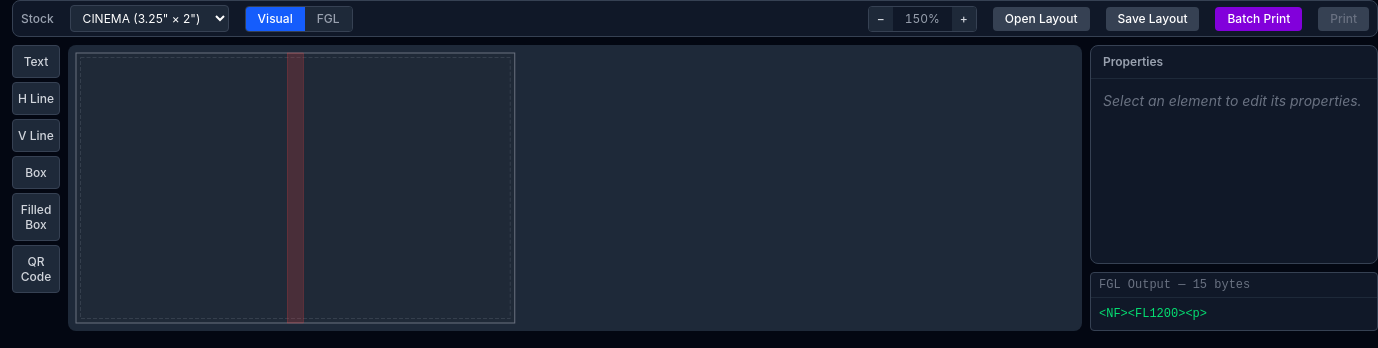
Test: TicketEditor › clicking "Visual" after "FGL" restores palette
Click the button "FGL" at (328,18), box x1=305 y1=6 x2=352 y2=30
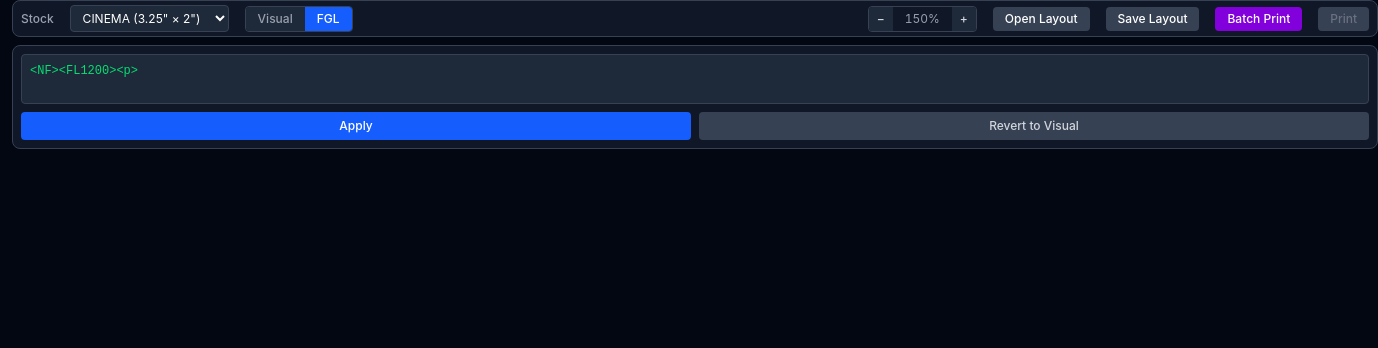
Click the button "Visual" at (275,18), box x1=246 y1=6 x2=305 y2=30
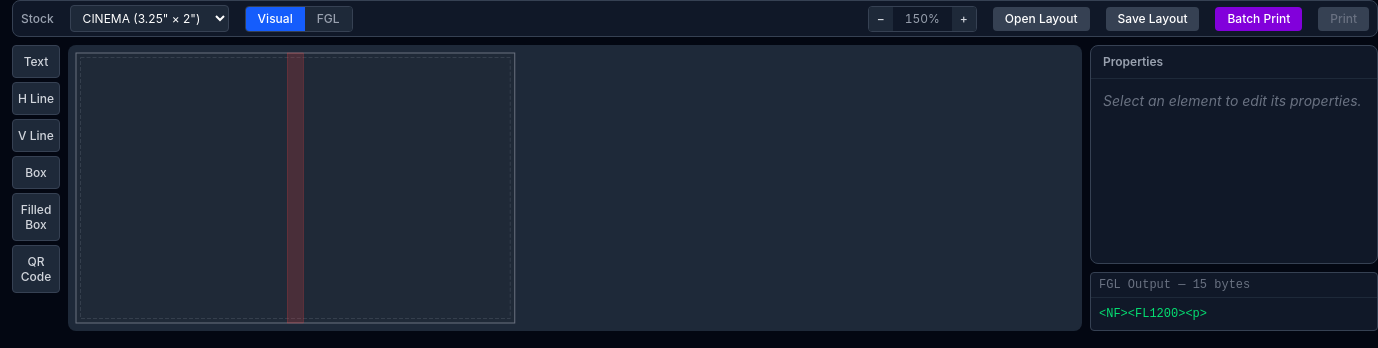
Check: the button "Text" is shown, box x1=12 y1=45 x2=60 y2=78
